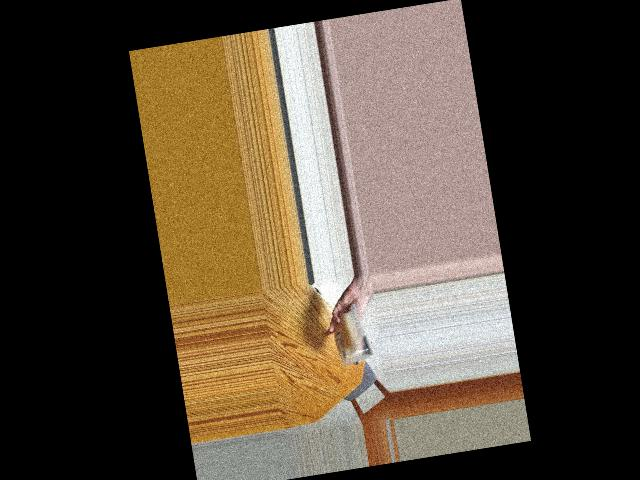cheese: (332, 312, 369, 363)
